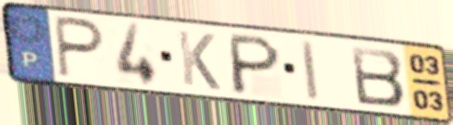4: (113, 20, 161, 89)
B: (348, 44, 408, 109)
I: (299, 38, 322, 104)
K: (175, 27, 223, 93)
P: (52, 13, 107, 82), (229, 31, 284, 97)
